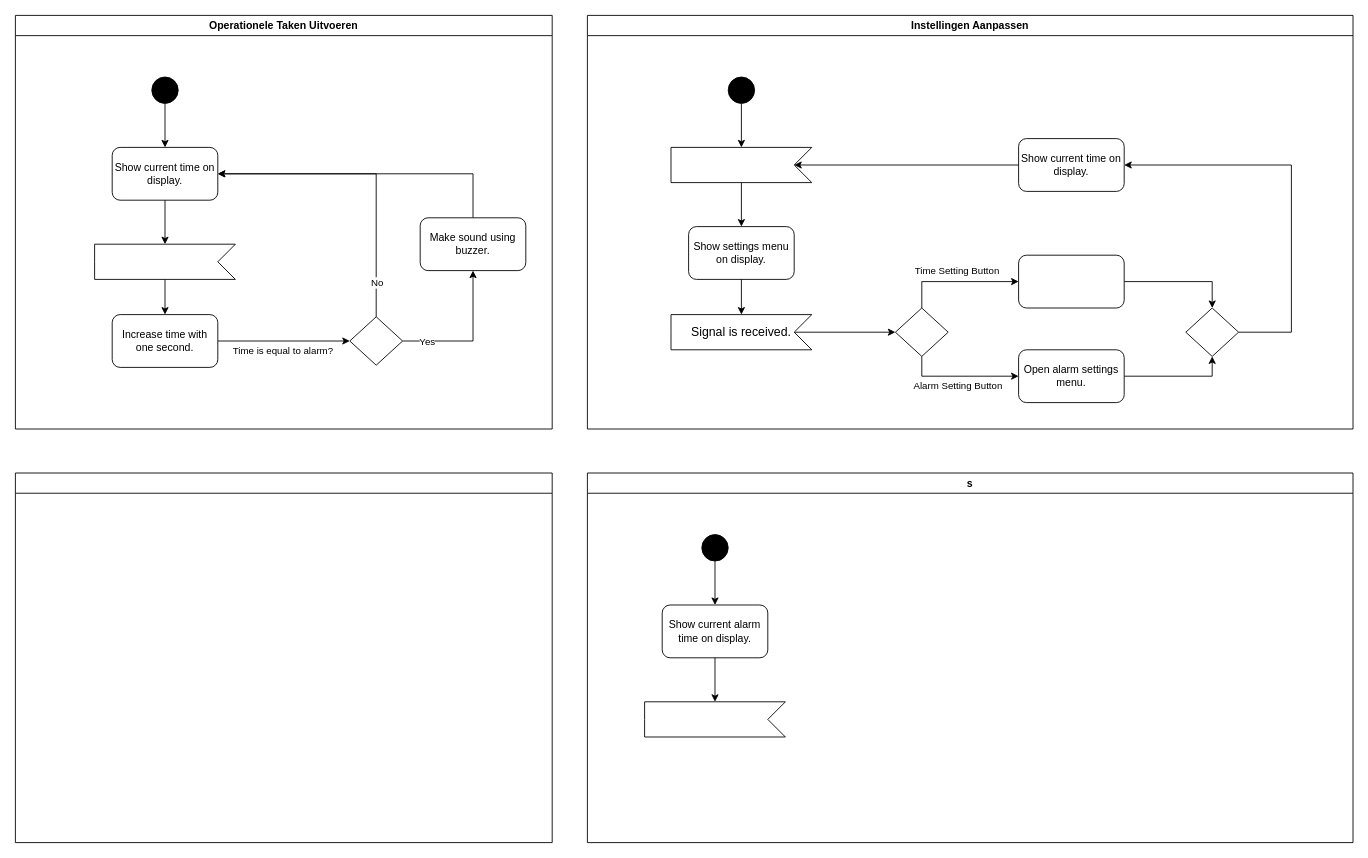
Image size: 1368x858. Some labels were removed from this diagram. Each missing label, with the centre of its shape:
"Open time settings menu" belongs at [1071,281].
"Settings button is pressed." belongs at [714,719].
"Settings signal is received." belongs at [741,165].
"Tijd instellen" belongs at [283,657].
"Timer went off." belongs at [164,261].
